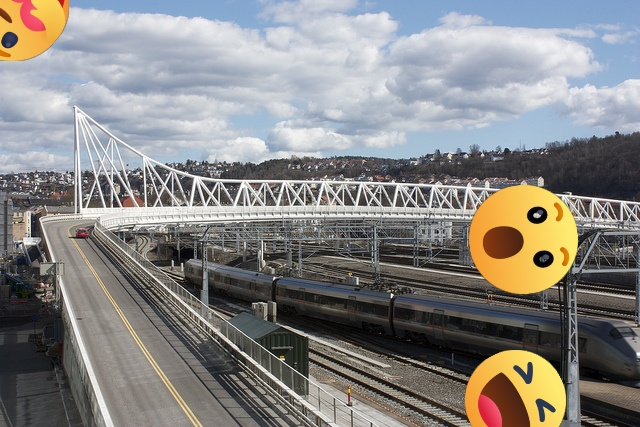care: (0, 0, 69, 61)
haha: (465, 350, 566, 427)
wow: (469, 185, 578, 294)
